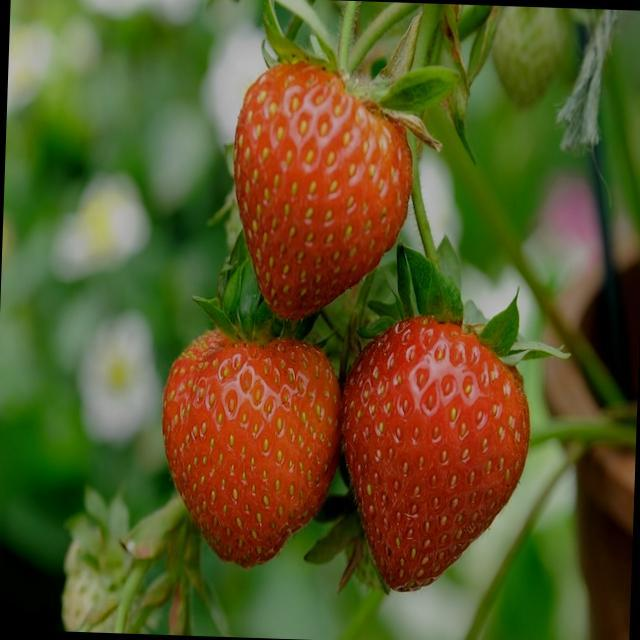strawberry: (344, 316, 529, 591), (234, 61, 411, 319), (162, 330, 340, 567)
